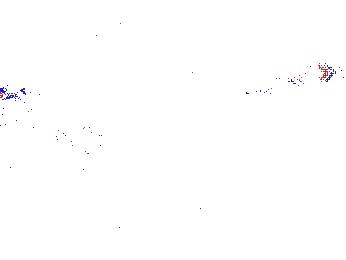glassfish: (1, 106, 92, 168), (1, 85, 61, 131)
red belly glassfish: (1, 87, 26, 99)
redtail glassfish: (243, 72, 305, 97), (78, 123, 118, 145), (319, 62, 346, 83)
